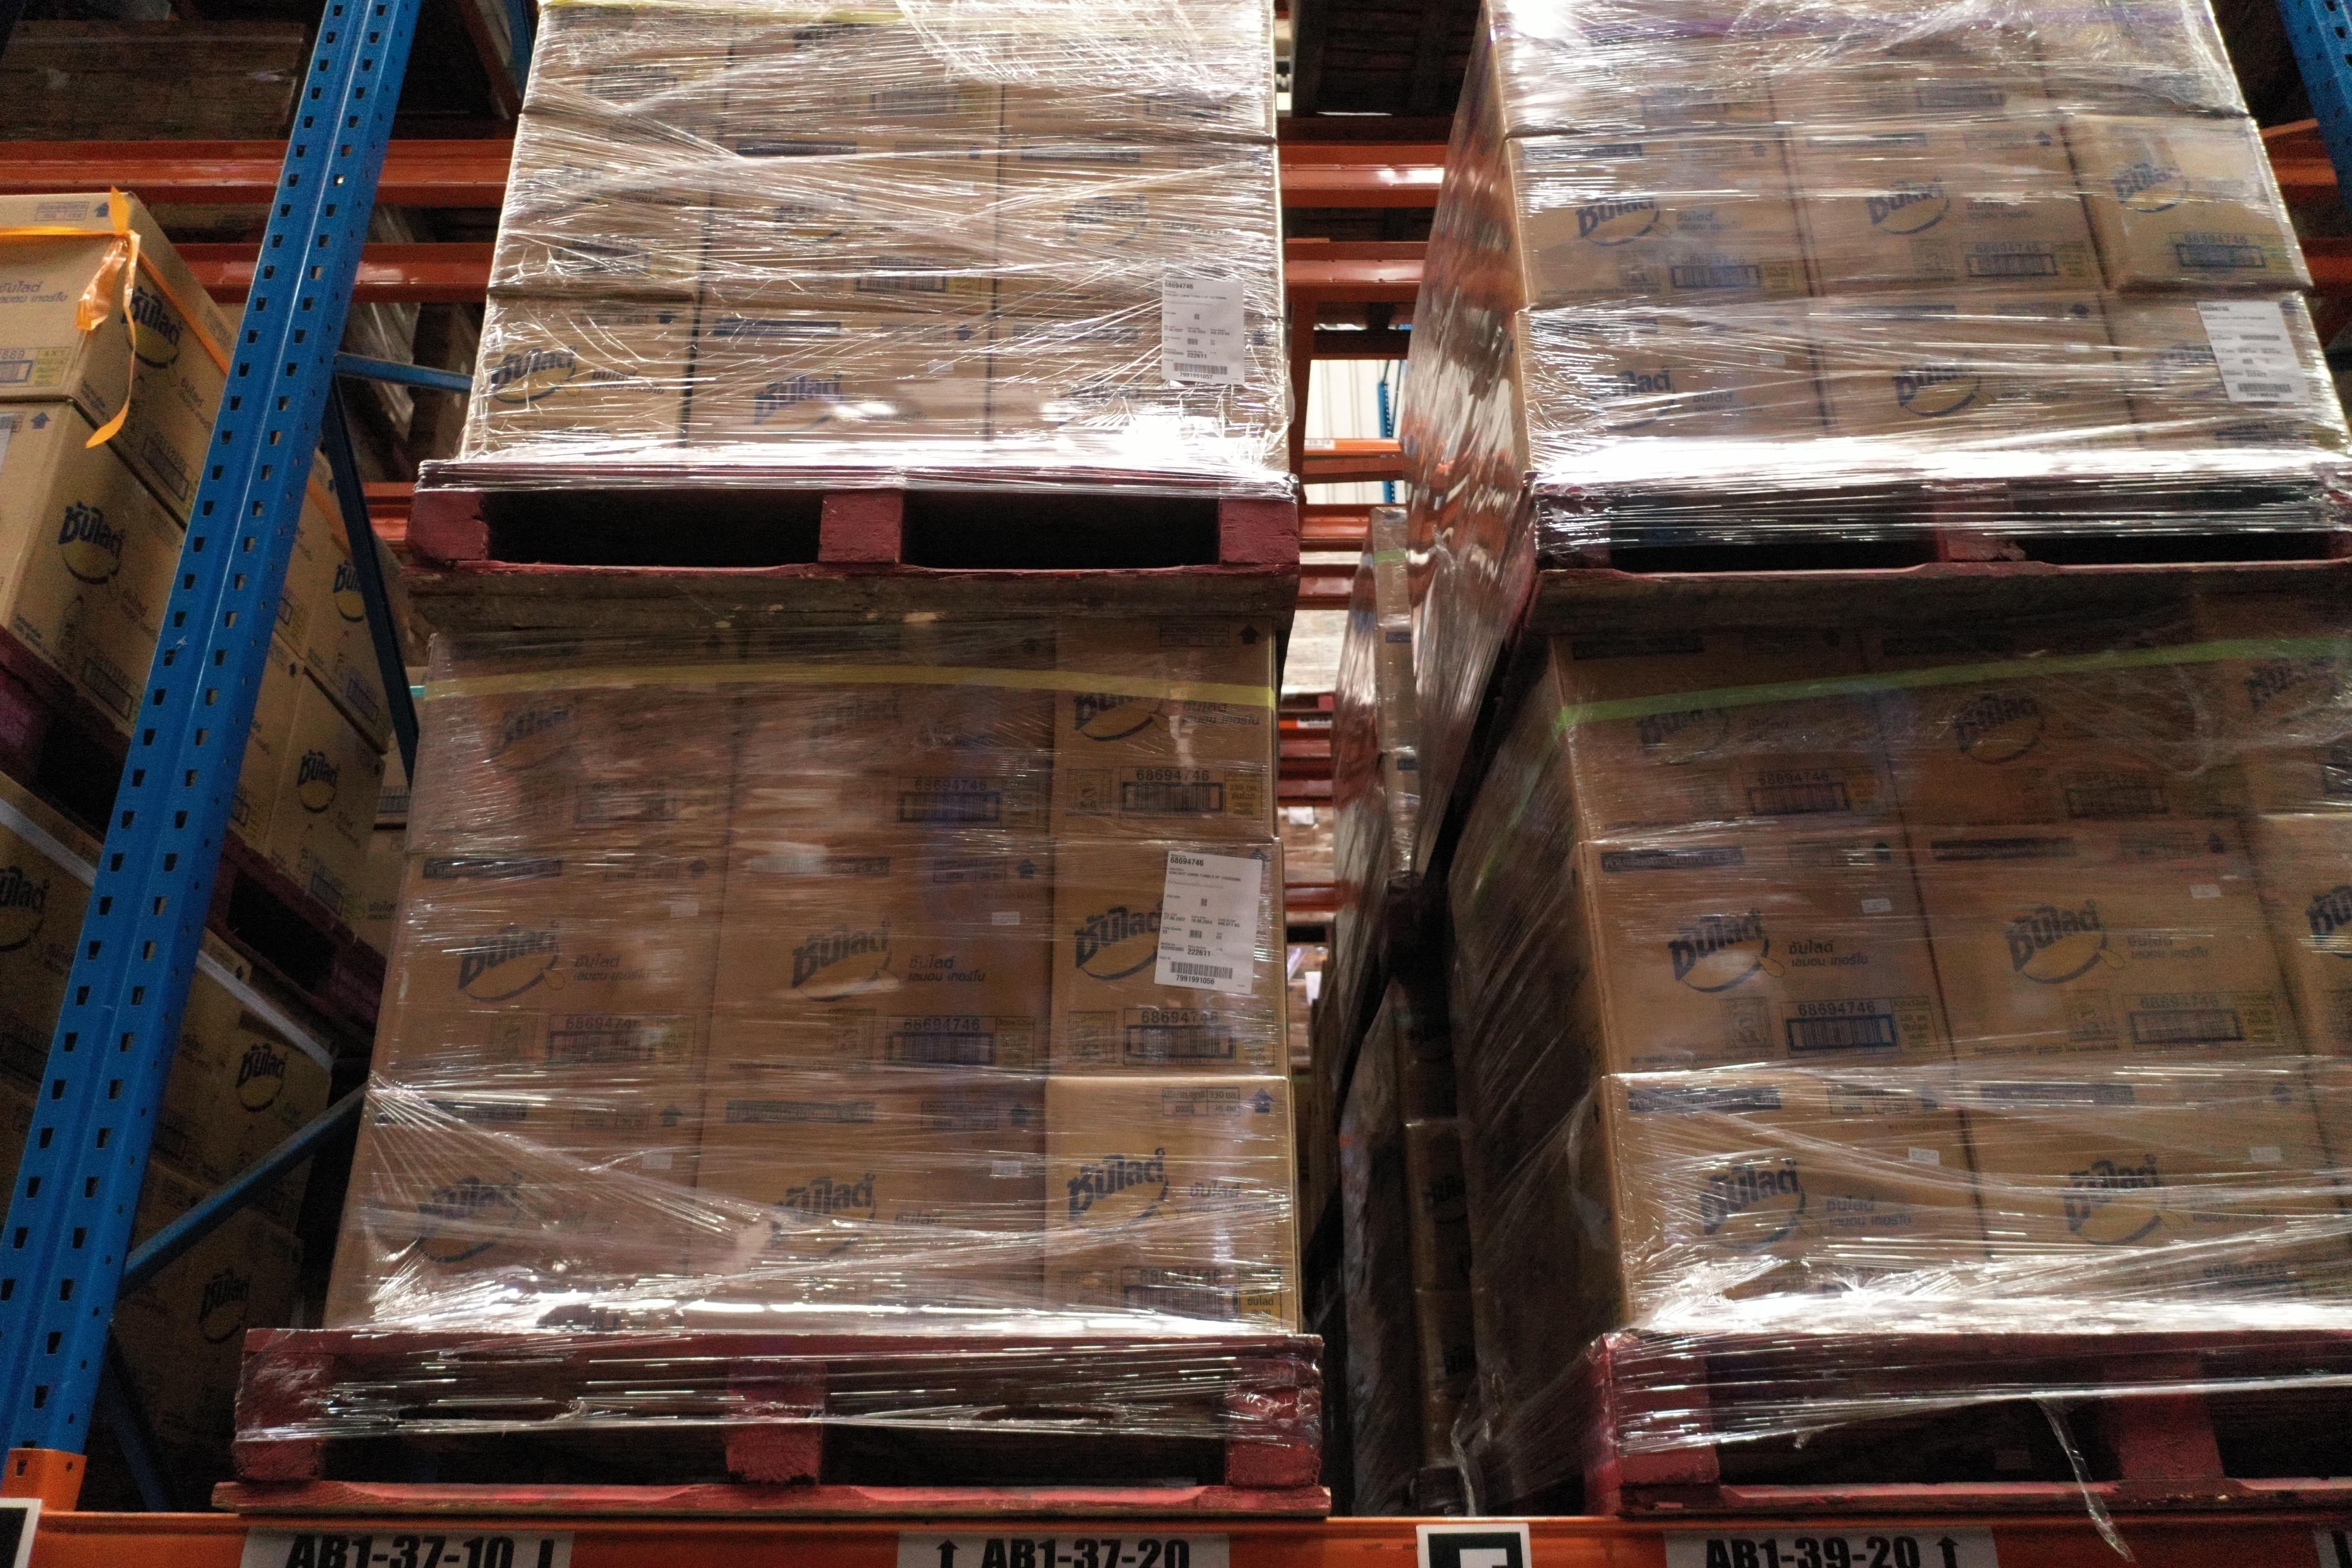-: (1953, 1057, 2352, 1335), (1608, 1062, 2000, 1330), (1909, 814, 2308, 1066), (679, 1076, 1046, 1339), (1582, 822, 1956, 1076), (324, 1083, 705, 1330), (369, 849, 728, 1085), (1862, 605, 2245, 826), (703, 847, 1055, 1083), (1552, 619, 1906, 845), (408, 628, 751, 850), (728, 623, 1057, 845), (1045, 1074, 1297, 1340), (1781, 121, 2112, 308), (1808, 294, 2149, 472), (696, 131, 1004, 318), (1045, 840, 1288, 1076), (1507, 126, 1811, 310), (1515, 303, 1836, 474), (996, 135, 1283, 318), (1052, 619, 1276, 845), (684, 303, 990, 465), (983, 311, 1288, 465), (2098, 289, 2352, 471), (2056, 114, 2312, 290), (490, 112, 726, 303), (458, 294, 698, 469), (723, 0, 1006, 143), (1750, 0, 2058, 131), (2186, 602, 2352, 821), (0, 191, 140, 402), (2249, 812, 2352, 1057), (0, 404, 75, 628)
